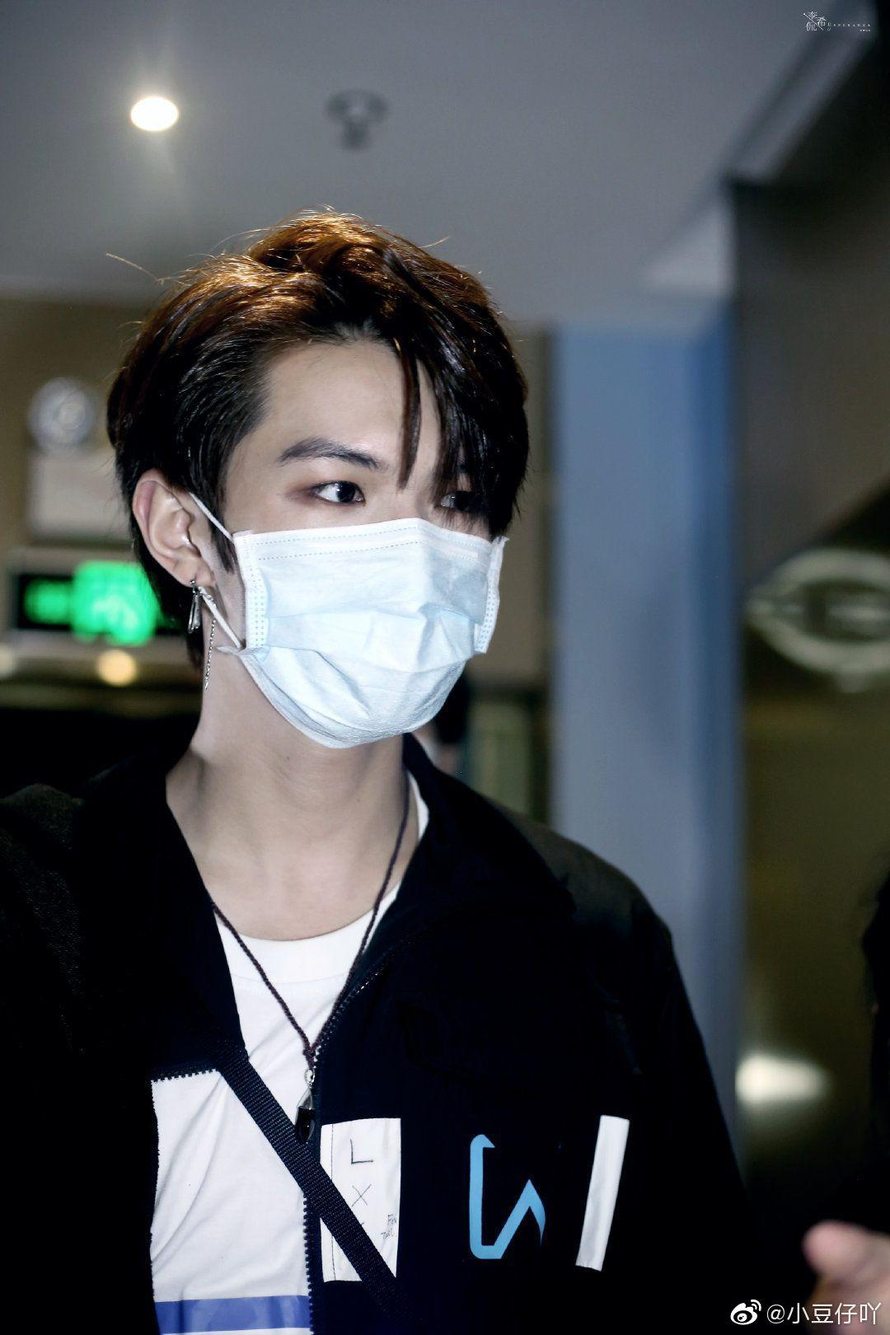OK: (240, 396, 505, 747)
